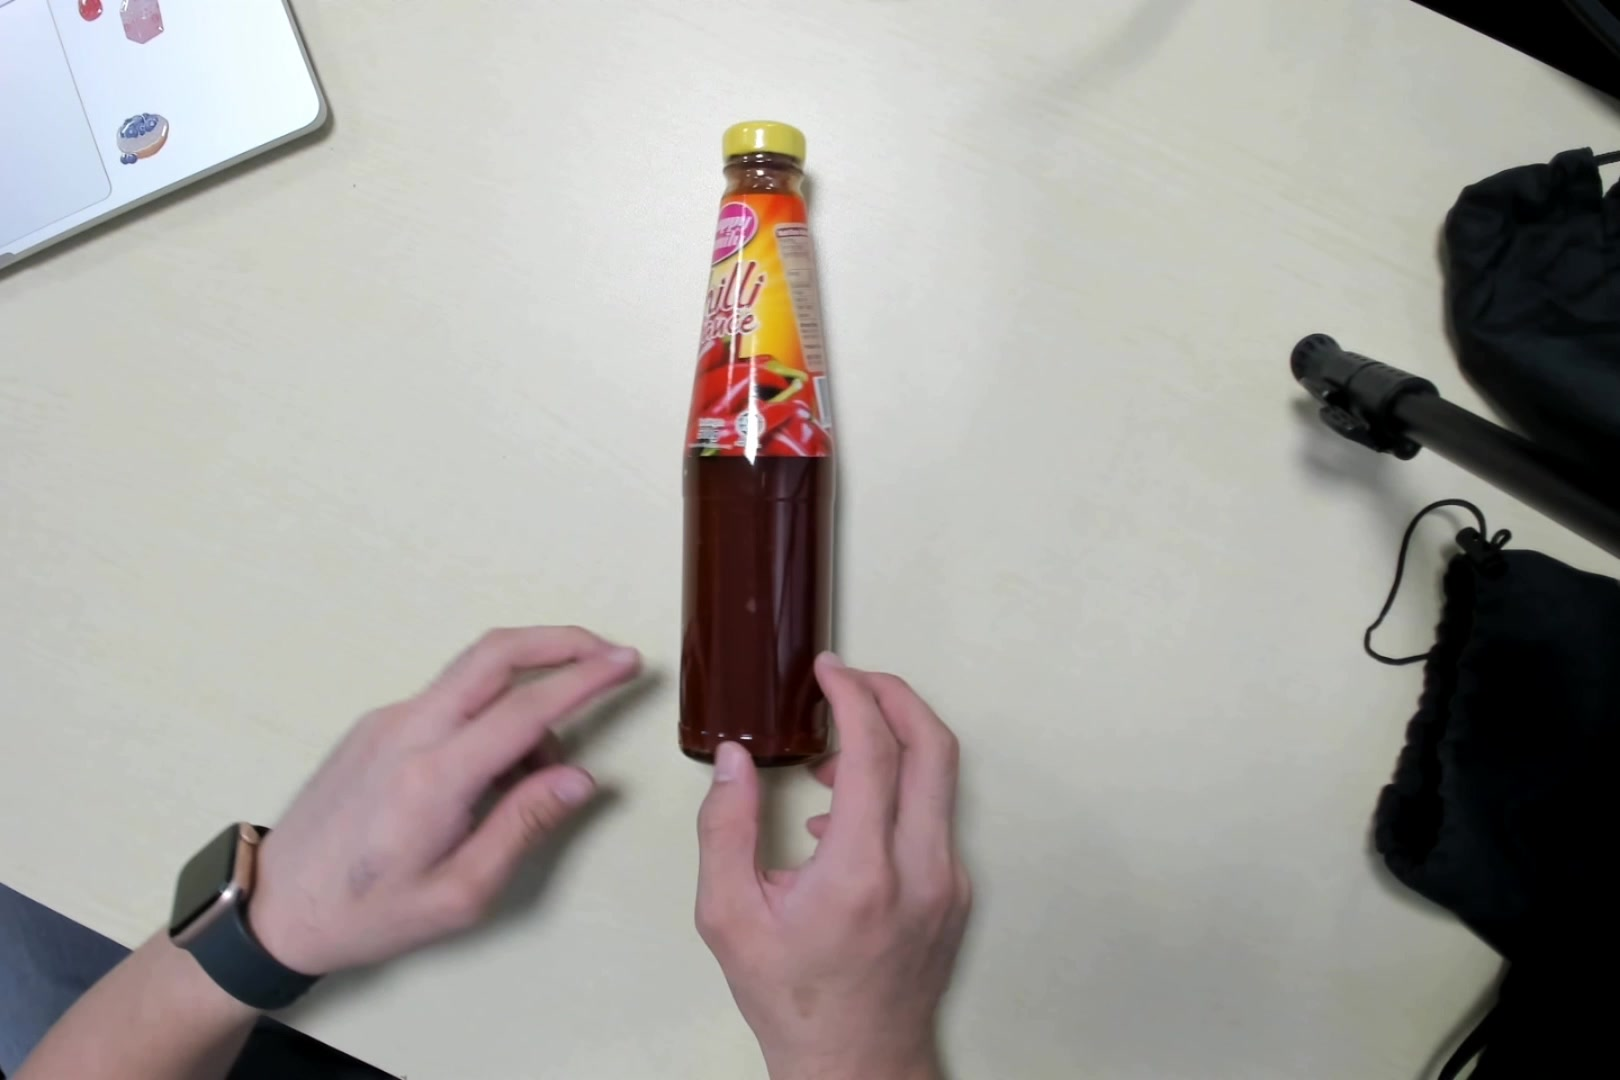KetchupChillSauce_500-599g_Halal_NonHealthy: (683, 124, 837, 765)
